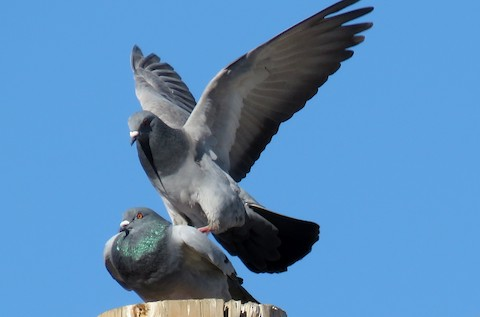pigeon: (115, 4, 383, 276), (98, 203, 294, 312)
